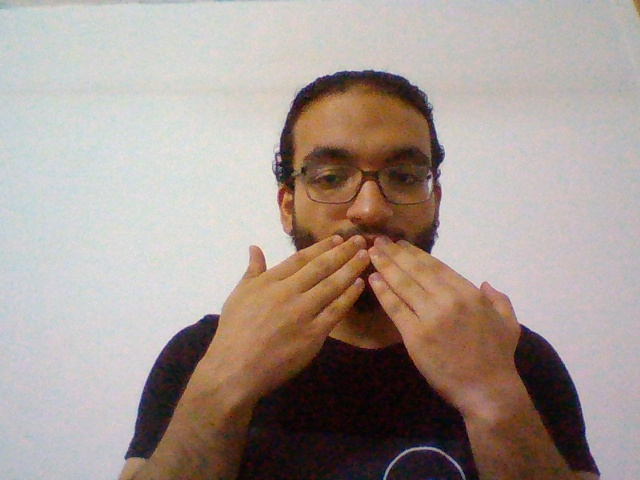Thanks: (195, 234, 543, 415)
